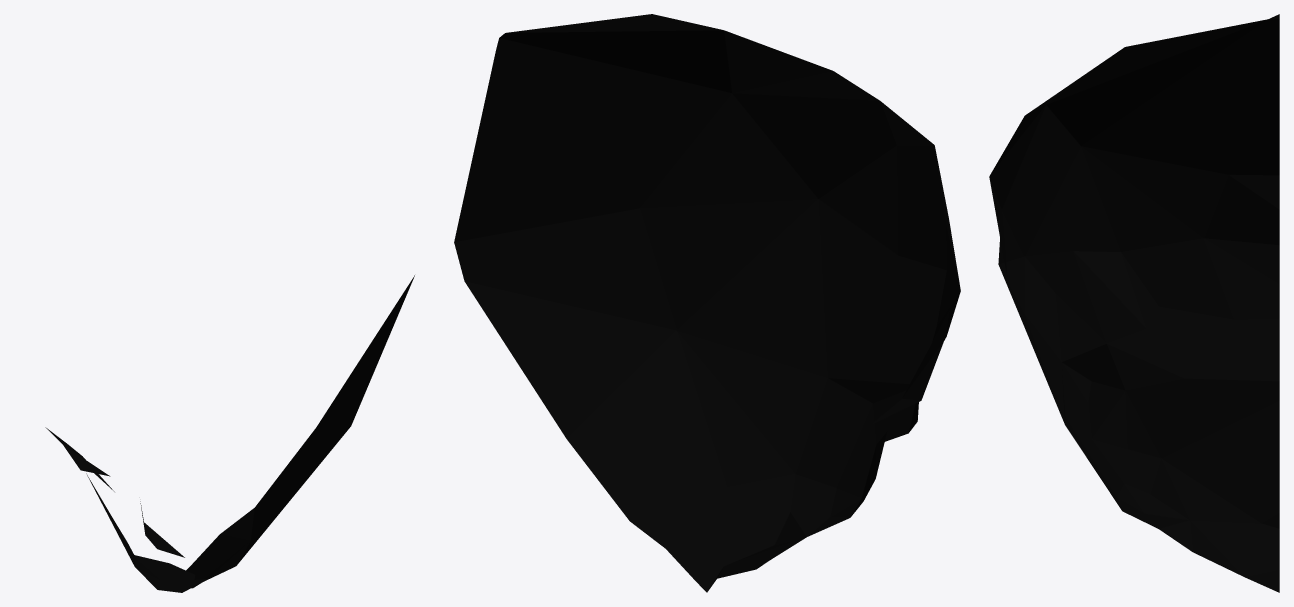
3 views of the same model, side by side, from view 1: azimuth 30°, elevation 25°; view 2: azimuth 150°, elevation 25°; view 3: azimuth 270°, elevation 25° (orthographic). The views are drawn at different scales.
Size of the model in its own units: 1.22 by 1.53 by 0.6642.
1 material, 1 textured.
